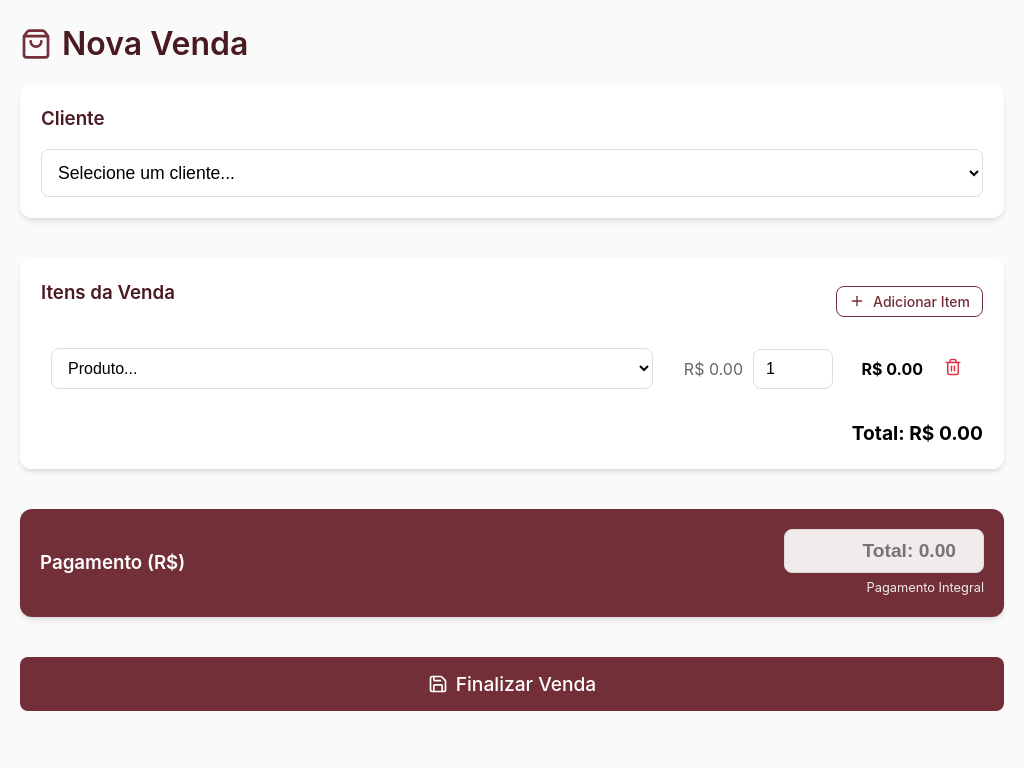
Scenario: Sales Component › calculates total when product and quantity change
Select "Product X" in the dropdown with test id "product-select-0" at [352, 369], box [51, 348, 653, 389]
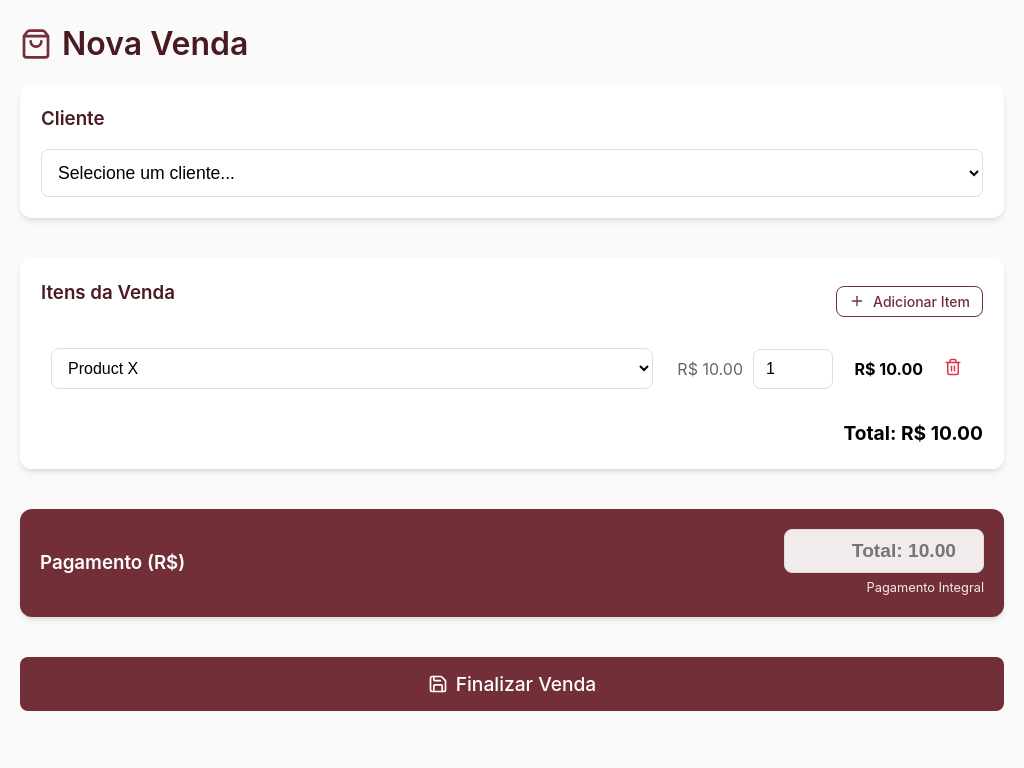
Expected: the text with test id "item-total-0" reads "R$ 10.00", [843, 357, 923, 381]
Expected: the text with test id "grand-total" reads "Total: R$ 10.00", [843, 421, 983, 445]
Replace the text in the number field with test id "quantity-input-0" with "2" at [793, 369], box [753, 349, 833, 389]
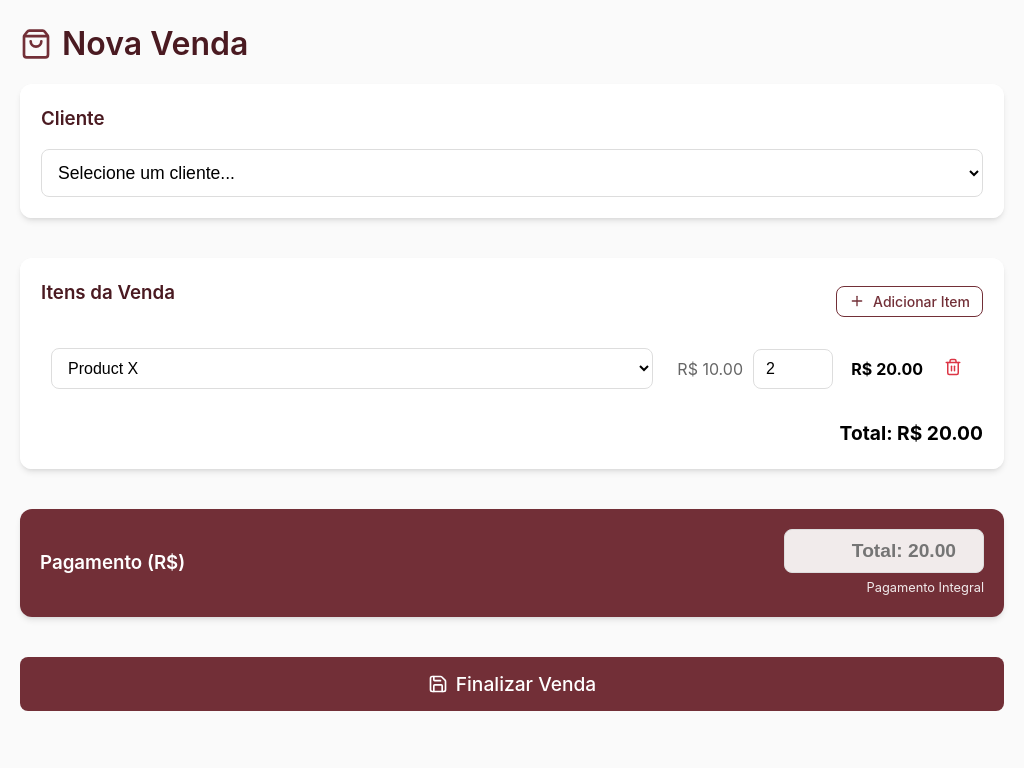
Expected: the text with test id "item-total-0" reads "R$ 20.00", [843, 357, 923, 381]
Expected: the text with test id "grand-total" reads "Total: R$ 20.00", [840, 421, 983, 445]
